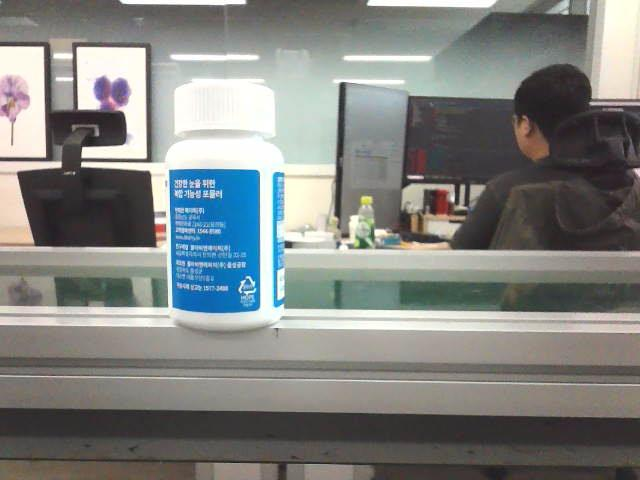labeled: (160, 78, 290, 337)
